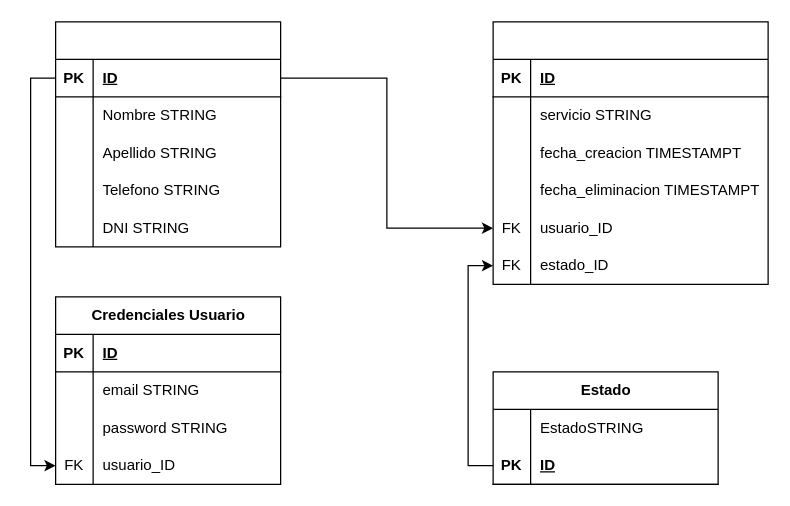
Some shapes in this 790 by 506 pixel diagram are drawn without their labels. The box of each missing label's shape, as (x1, y1, x2, y2) in pixels:
Turno: (492, 21, 768, 284)
Usuario: (54, 21, 281, 247)
